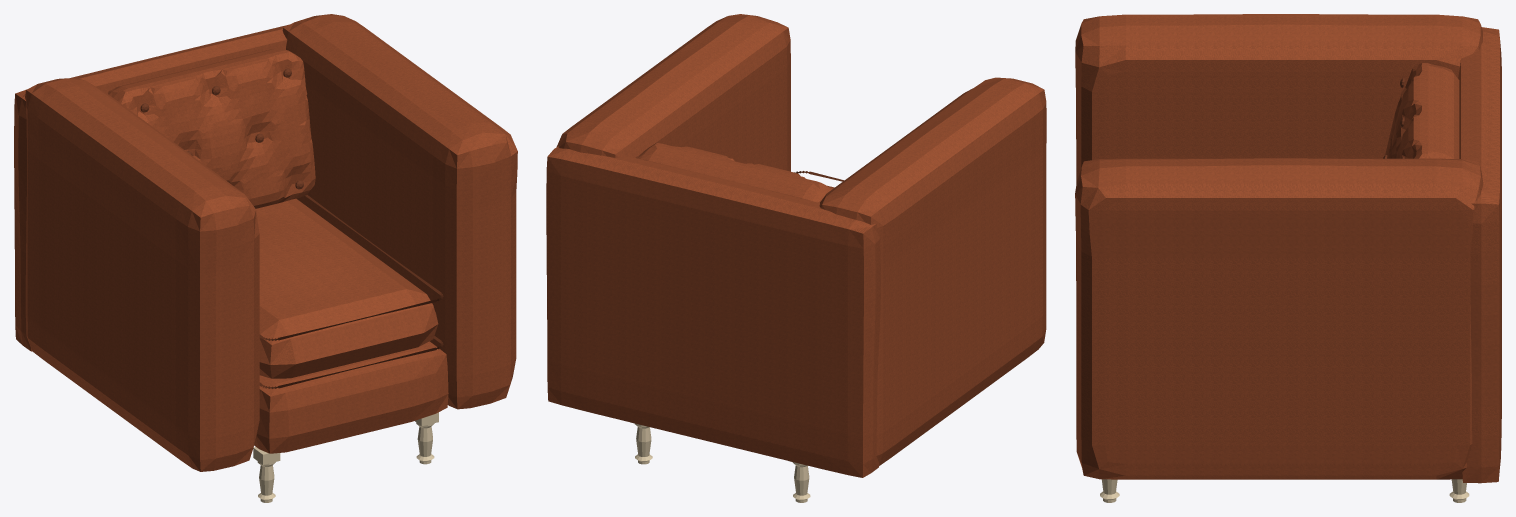
Rendered from FET-ARM-std.glb.
3 renders of one model, left to right at view 1: azimuth 30°, elevation 25°; view 2: azimuth 150°, elevation 25°; view 3: azimuth 270°, elevation 25°, orthographic. The views are drawn at different scales.
Visible parts, largest first — view 1: arm-pad-l:fabric:eyJwcmVzZXQiOiJ2ZWx2ZXQiLCJ3YXJwIjoicnVzdCI, arm-pad-r:fabric:eyJwcmVzZXQiOiJ2ZWx2ZXQiLCJ3YXJwIjoicnVzdCI, seat:fabric:eyJwcmVzZXQiOiJ2ZWx2ZXQiLCJ3YXJwIjoicnVzdCIsIndl, inside-back:fabric:eyJwcmVzZXQiOiJ2ZWx2ZXQiLCJ3YXJwIjoicnVzd, deck:fabric:eyJwcmVzZXQiOiJ2ZWx2ZXQiLCJ3YXJwIjoicnVzdCIsIndl, back-pad:fabric:eyJwcmVzZXQiOiJ2ZWx2ZXQiLCJ3YXJwIjoicnVzdCIs, seat:piping:pbr, leg-fl:pbr, leg-fr:pbr; view 2: back-pad:fabric:eyJwcmVzZXQiOiJ2ZWx2ZXQiLCJ3YXJwIjoicnVzdCIs, arm-pad-l:fabric:eyJwcmVzZXQiOiJ2ZWx2ZXQiLCJ3YXJwIjoicnVzdCI, arm-pad-r:fabric:eyJwcmVzZXQiOiJ2ZWx2ZXQiLCJ3YXJwIjoicnVzdCI, inside-back:fabric:eyJwcmVzZXQiOiJ2ZWx2ZXQiLCJ3YXJwIjoicnVzd, leg-bl:pbr, leg-br:pbr; view 3: arm-pad-r:fabric:eyJwcmVzZXQiOiJ2ZWx2ZXQiLCJ3YXJwIjoicnVzdCI, arm-pad-l:fabric:eyJwcmVzZXQiOiJ2ZWx2ZXQiLCJ3YXJwIjoicnVzdCI, back-pad:fabric:eyJwcmVzZXQiOiJ2ZWx2ZXQiLCJ3YXJwIjoicnVzdCIs, inside-back:fabric:eyJwcmVzZXQiOiJ2ZWx2ZXQiLCJ3YXJwIjoicnVzd.
Part boxes in pixels (box(x1,y1,x2,y2)): arm-pad-l:fabric:eyJwcmVzZXQiOiJ2ZWx2ZXQiLCJ3YXJwIjoicnVzdCI: box(25, 78, 259, 471); arm-pad-r:fabric:eyJwcmVzZXQiOiJ2ZWx2ZXQiLCJ3YXJwIjoicnVzdCI: box(282, 14, 517, 409); seat:fabric:eyJwcmVzZXQiOiJ2ZWx2ZXQiLCJ3YXJwIjoicnVzdCIsIndl: box(256, 198, 438, 378); inside-back:fabric:eyJwcmVzZXQiOiJ2ZWx2ZXQiLCJ3YXJwIjoicnVzd: box(107, 48, 315, 208); deck:fabric:eyJwcmVzZXQiOiJ2ZWx2ZXQiLCJ3YXJwIjoicnVzdCIsIndl: box(254, 341, 448, 453); back-pad:fabric:eyJwcmVzZXQiOiJ2ZWx2ZXQiLCJ3YXJwIjoicnVzdCIs: box(14, 24, 288, 351); seat:piping:pbr: box(259, 195, 443, 388); leg-fl:pbr: box(253, 447, 280, 502); leg-fr:pbr: box(415, 412, 438, 464); back-pad:fabric:eyJwcmVzZXQiOiJ2ZWx2ZXQiLCJ3YXJwIjoicnVzdCIs: box(546, 146, 880, 477); arm-pad-l:fabric:eyJwcmVzZXQiOiJ2ZWx2ZXQiLCJ3YXJwIjoicnVzdCI: box(819, 77, 1046, 465); arm-pad-r:fabric:eyJwcmVzZXQiOiJ2ZWx2ZXQiLCJ3YXJwIjoicnVzdCI: box(556, 14, 790, 171); inside-back:fabric:eyJwcmVzZXQiOiJ2ZWx2ZXQiLCJ3YXJwIjoicnVzd: box(637, 142, 831, 202); leg-bl:pbr: box(790, 461, 810, 502); leg-br:pbr: box(630, 422, 652, 464); arm-pad-r:fabric:eyJwcmVzZXQiOiJ2ZWx2ZXQiLCJ3YXJwIjoicnVzdCI: box(1075, 158, 1483, 479); arm-pad-l:fabric:eyJwcmVzZXQiOiJ2ZWx2ZXQiLCJ3YXJwIjoicnVzdCI: box(1075, 14, 1482, 183); back-pad:fabric:eyJwcmVzZXQiOiJ2ZWx2ZXQiLCJ3YXJwIjoicnVzdCIs: box(1458, 27, 1501, 483); inside-back:fabric:eyJwcmVzZXQiOiJ2ZWx2ZXQiLCJ3YXJwIjoicnVzd: box(1385, 63, 1459, 158).
Bounding box in the file's own units: 0.85 × 0.8 × 0.85.
12 materials, 6 textured.
